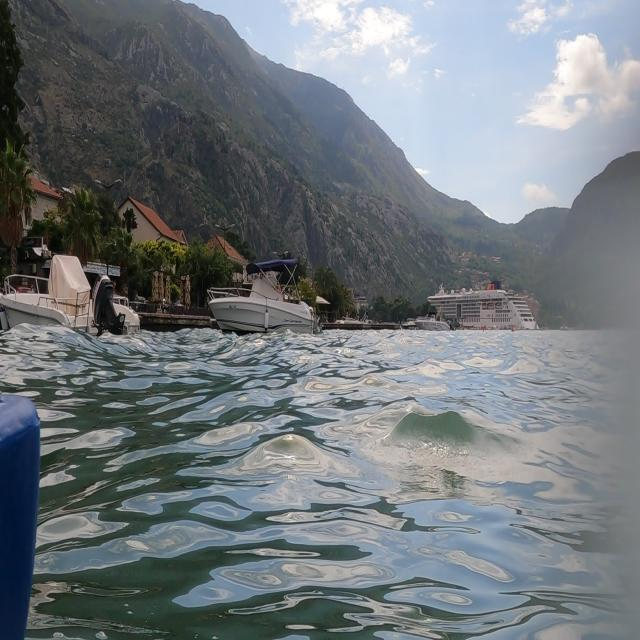boat: (1, 242, 148, 359), (205, 252, 318, 338), (426, 276, 546, 336)
